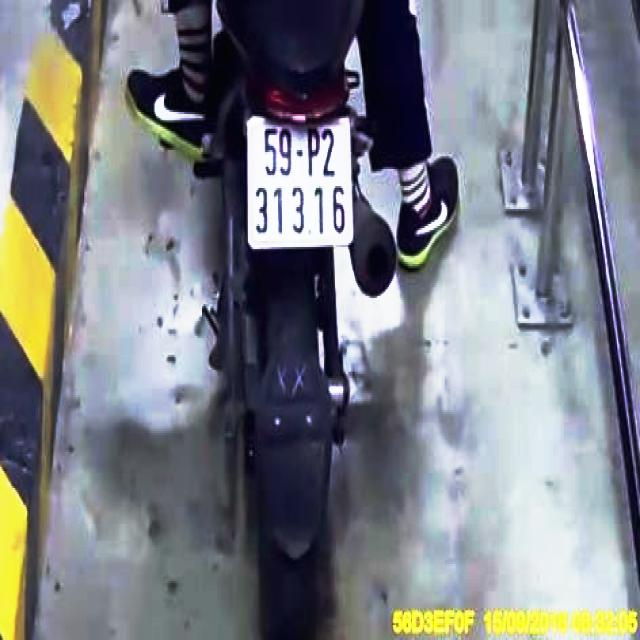license_plate: (251, 117, 354, 246)
